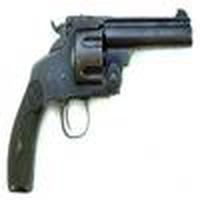gun: (5, 14, 200, 174)
